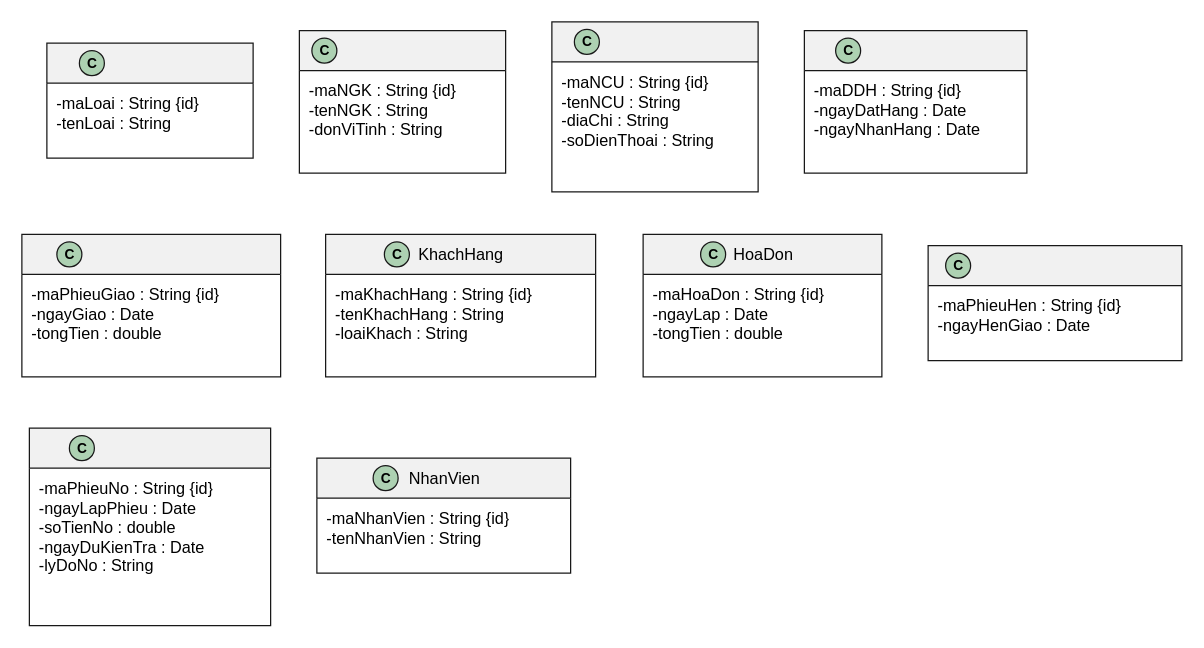
Image size: 1204x648. Some labels were removed from this diagram. The box of each missing label's shape, as (x1, y1, x2, y2) in pixels:
DonDatHang: (803, 29, 1027, 173)
NhaCungUng: (551, 21, 758, 192)
NhanHieu: (46, 42, 253, 158)
NuocGiaiKhat: (298, 29, 506, 173)
PhieuGhiNo: (28, 427, 271, 626)
PhieuGiaoHang: (21, 233, 281, 377)
PhieuHenGiaoHang: (927, 244, 1182, 361)
